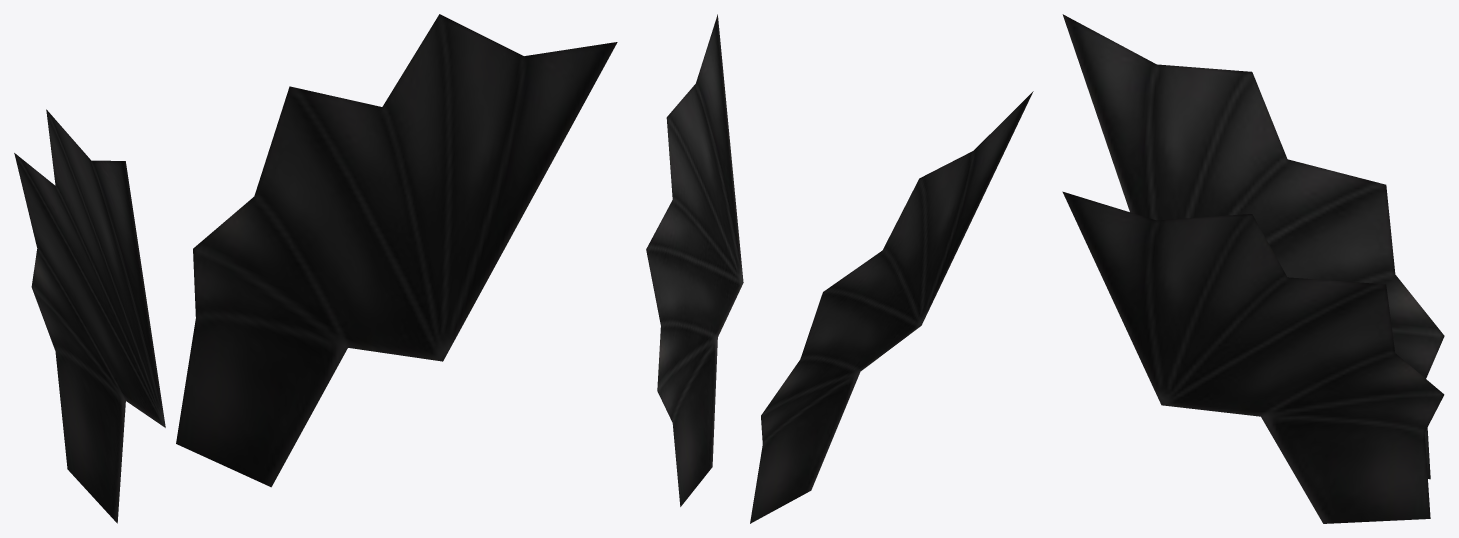
Rendered from tt_m_chr_avt_acc_pac_batWings.glb.
3 renders of one model, left to right at view 1: azimuth 30°, elevation 25°; view 2: azimuth 150°, elevation 25°; view 3: azimuth 270°, elevation 25°, orthographic. The views are drawn at different scales.
Parts seen in each view (by area): view 1: batWings; view 2: batWings; view 3: batWings.
Part boxes in pixels (x1,y1,x2,y2): batWings: [14, 14, 617, 523]; batWings: [646, 14, 1033, 523]; batWings: [1062, 14, 1444, 523].
Size of the model in its own units: 3.78 by 3.96 by 3.46.
Materials: 1 (1 with a texture image).
